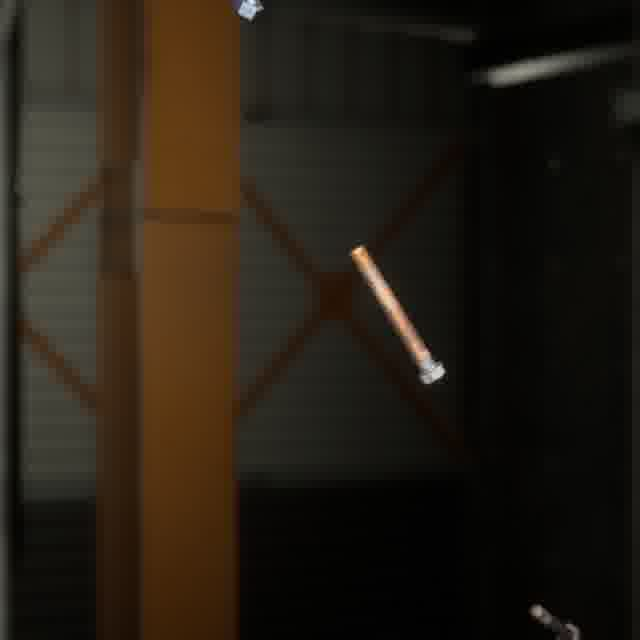bolt: (345, 240, 449, 388), (525, 600, 585, 640)
nut: (227, 0, 268, 25)
